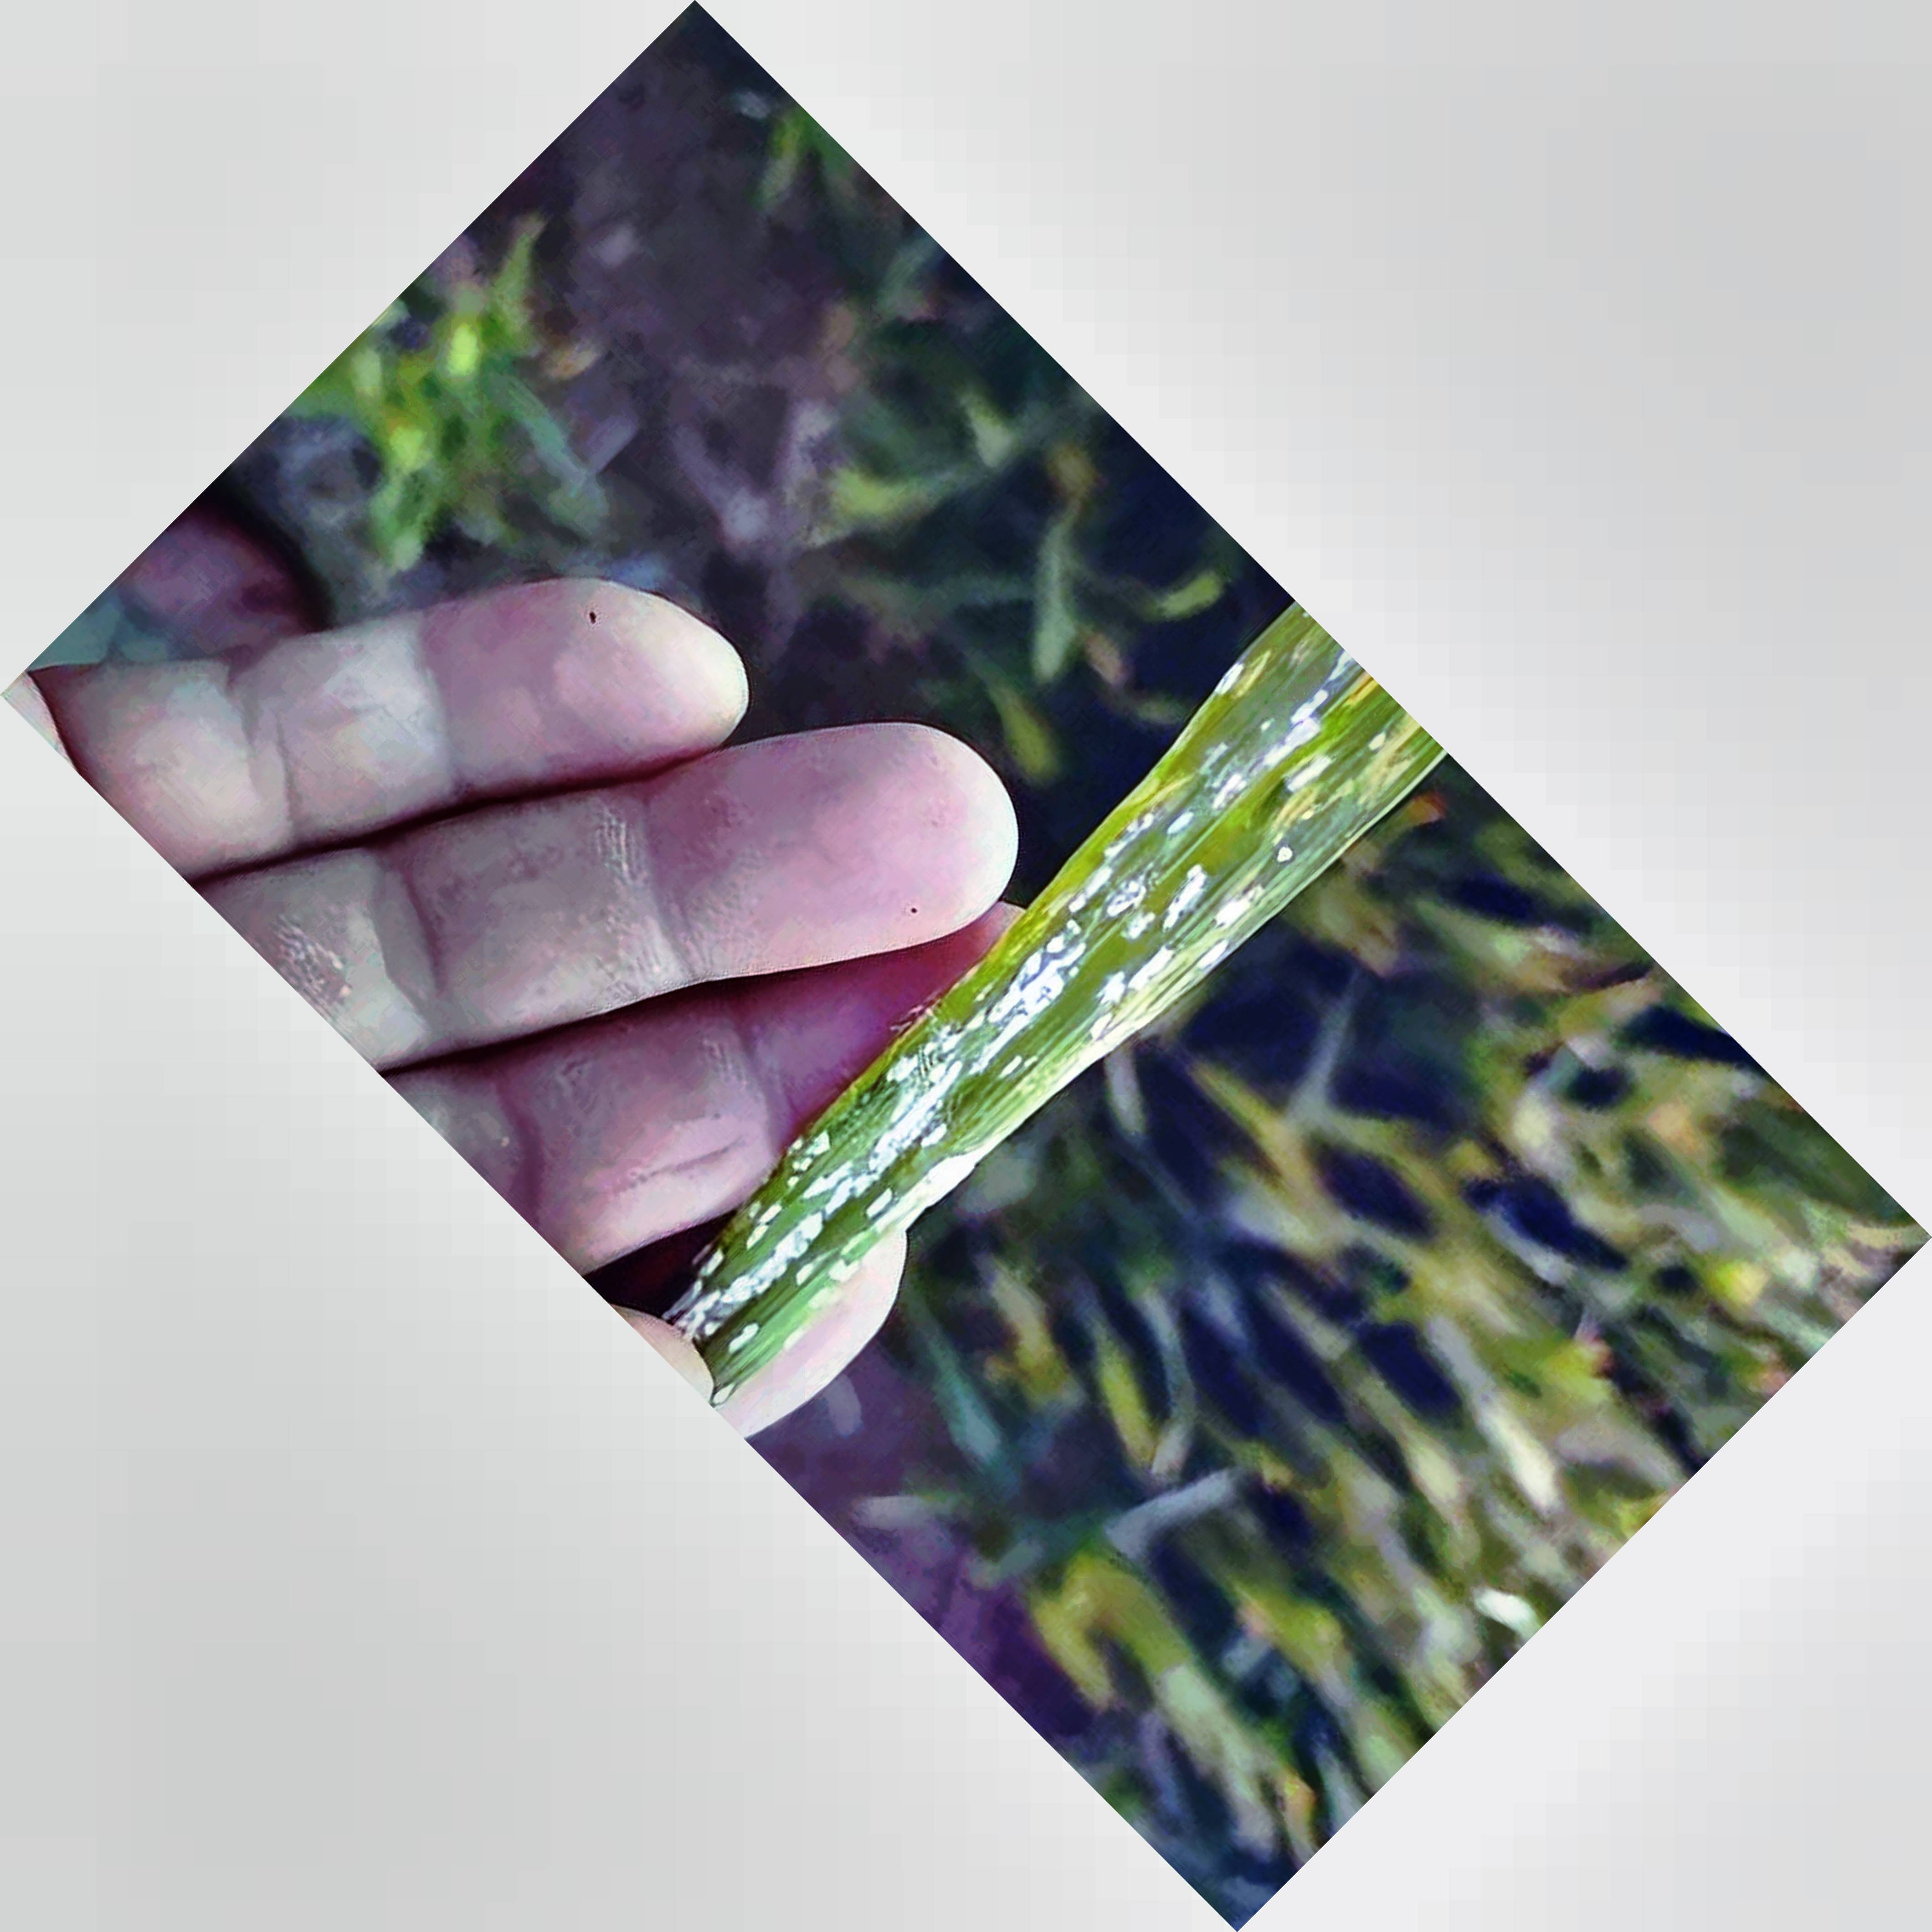Powdery Mildew: (688, 704, 1398, 1346)
